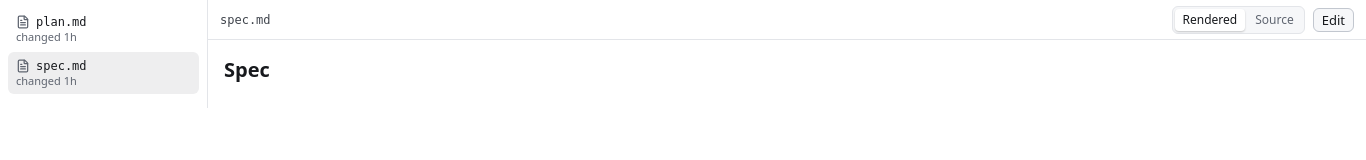
Test: DocsTab view mode › keeps the mode when another file is picked
This screenshot has width=1366, height=160.
Check: the heading "Spec" is shown, box [224,56,270,83]
Click the radio button labelled "Source" at (1274, 20), box [1247,8,1302,30]
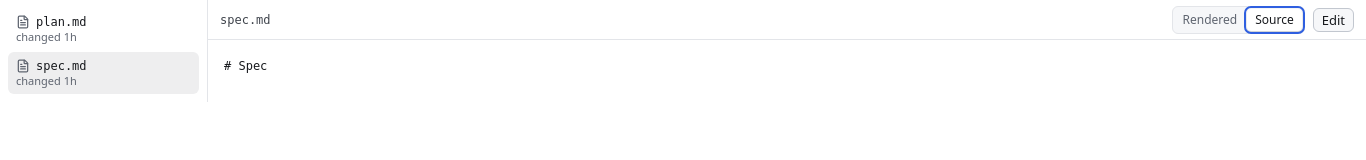
Click the button "plan.md changed 1h" at (104, 29), box [8,8,199,50]
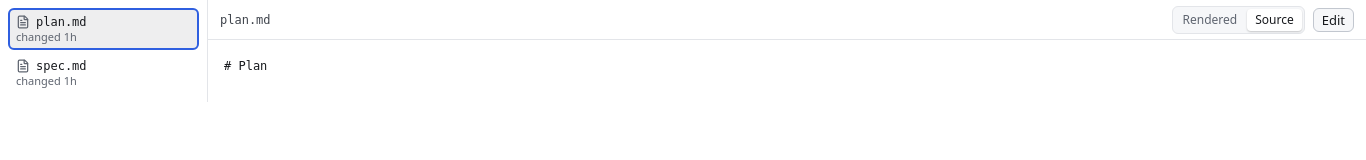
Check: the text "# Plan" is shown, box [224,59,267,73]
